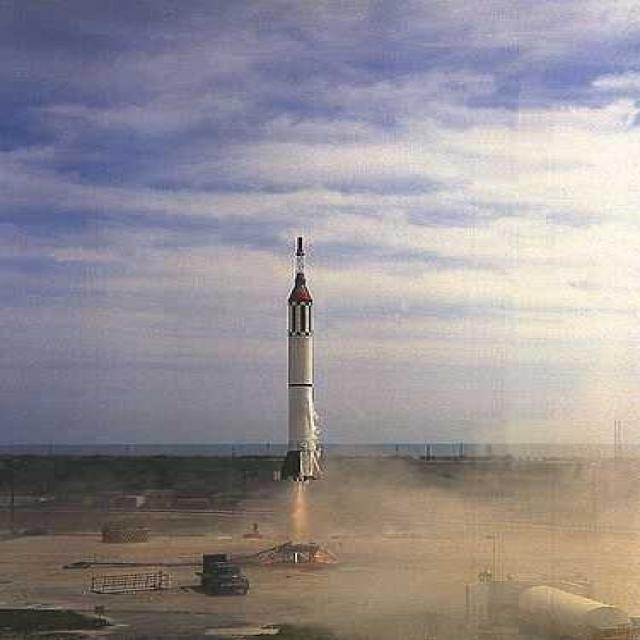missile: (279, 235, 320, 579)
